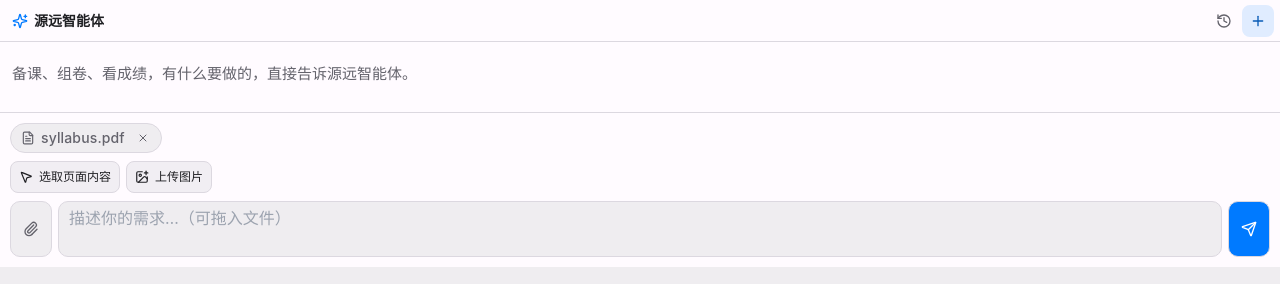
Test: AgentChatPanel › adds and removes file attachments properly
Earlier steps of the test are not shown.
Expected: the text "syllabus.pdf" is shown, [41,128,125,148]
Click the button named "移除 syllabus.pdf" at (143, 138), box [135,130,151,146]
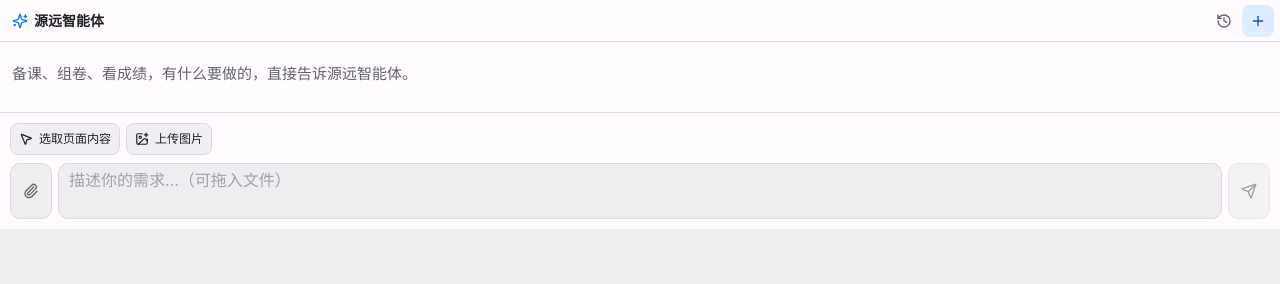
Now the text "syllabus.pdf" is gone
